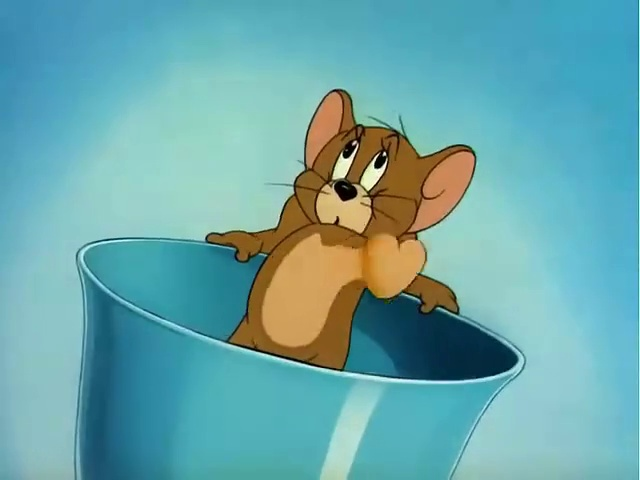jerry: (208, 55, 487, 375)
